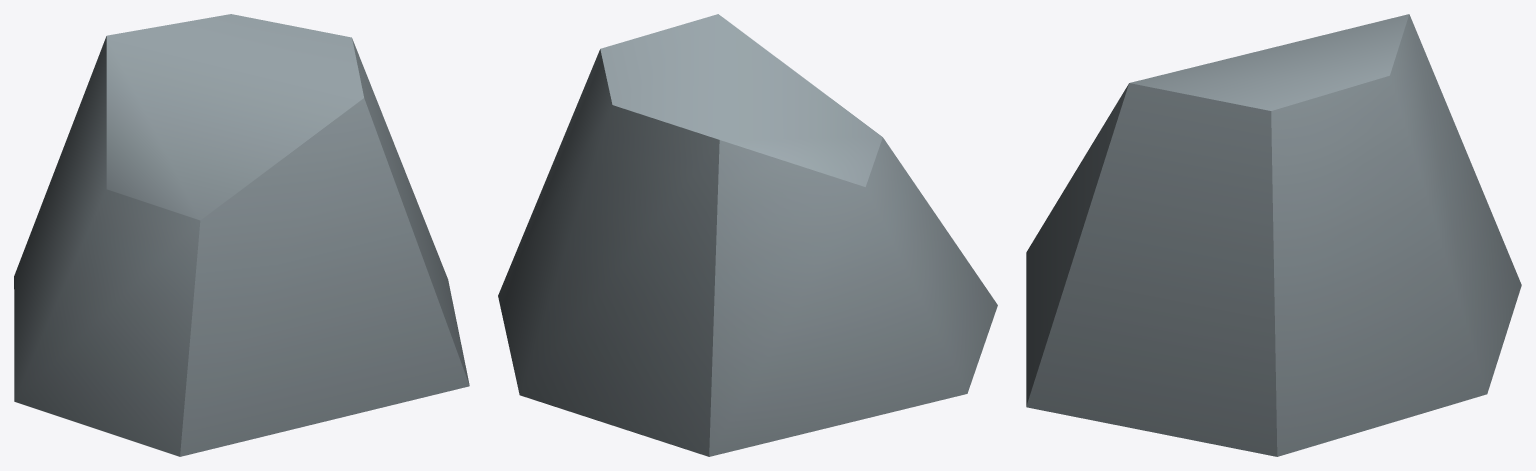
The model's file is hex-rock_single_D.glb.
The picture shows the model from 3 angles, left to right: view 1: azimuth 30°, elevation 25°; view 2: azimuth 150°, elevation 25°; view 3: azimuth 270°, elevation 25°; orthographic projection. The views are drawn at different scales.
Parts seen in each view (by area): view 1: rock_single_D; view 2: rock_single_D; view 3: rock_single_D.
Boxes of the visible parts, <box> form: rock_single_D: <box>14,14,469,456</box>; rock_single_D: <box>498,14,997,456</box>; rock_single_D: <box>1026,14,1521,456</box>.
Bounding box in the file's own units: 0.2866 × 0.1629 × 0.2497.
1 material, 1 textured.
